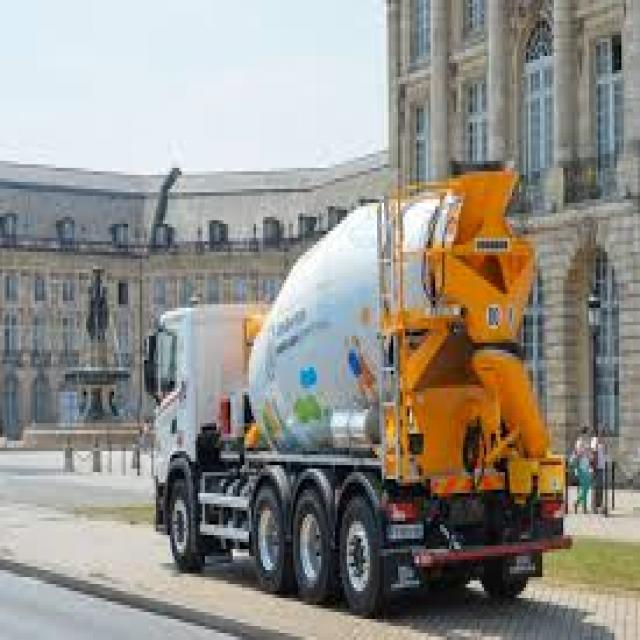Mixer Truck: (137, 158, 574, 620)
